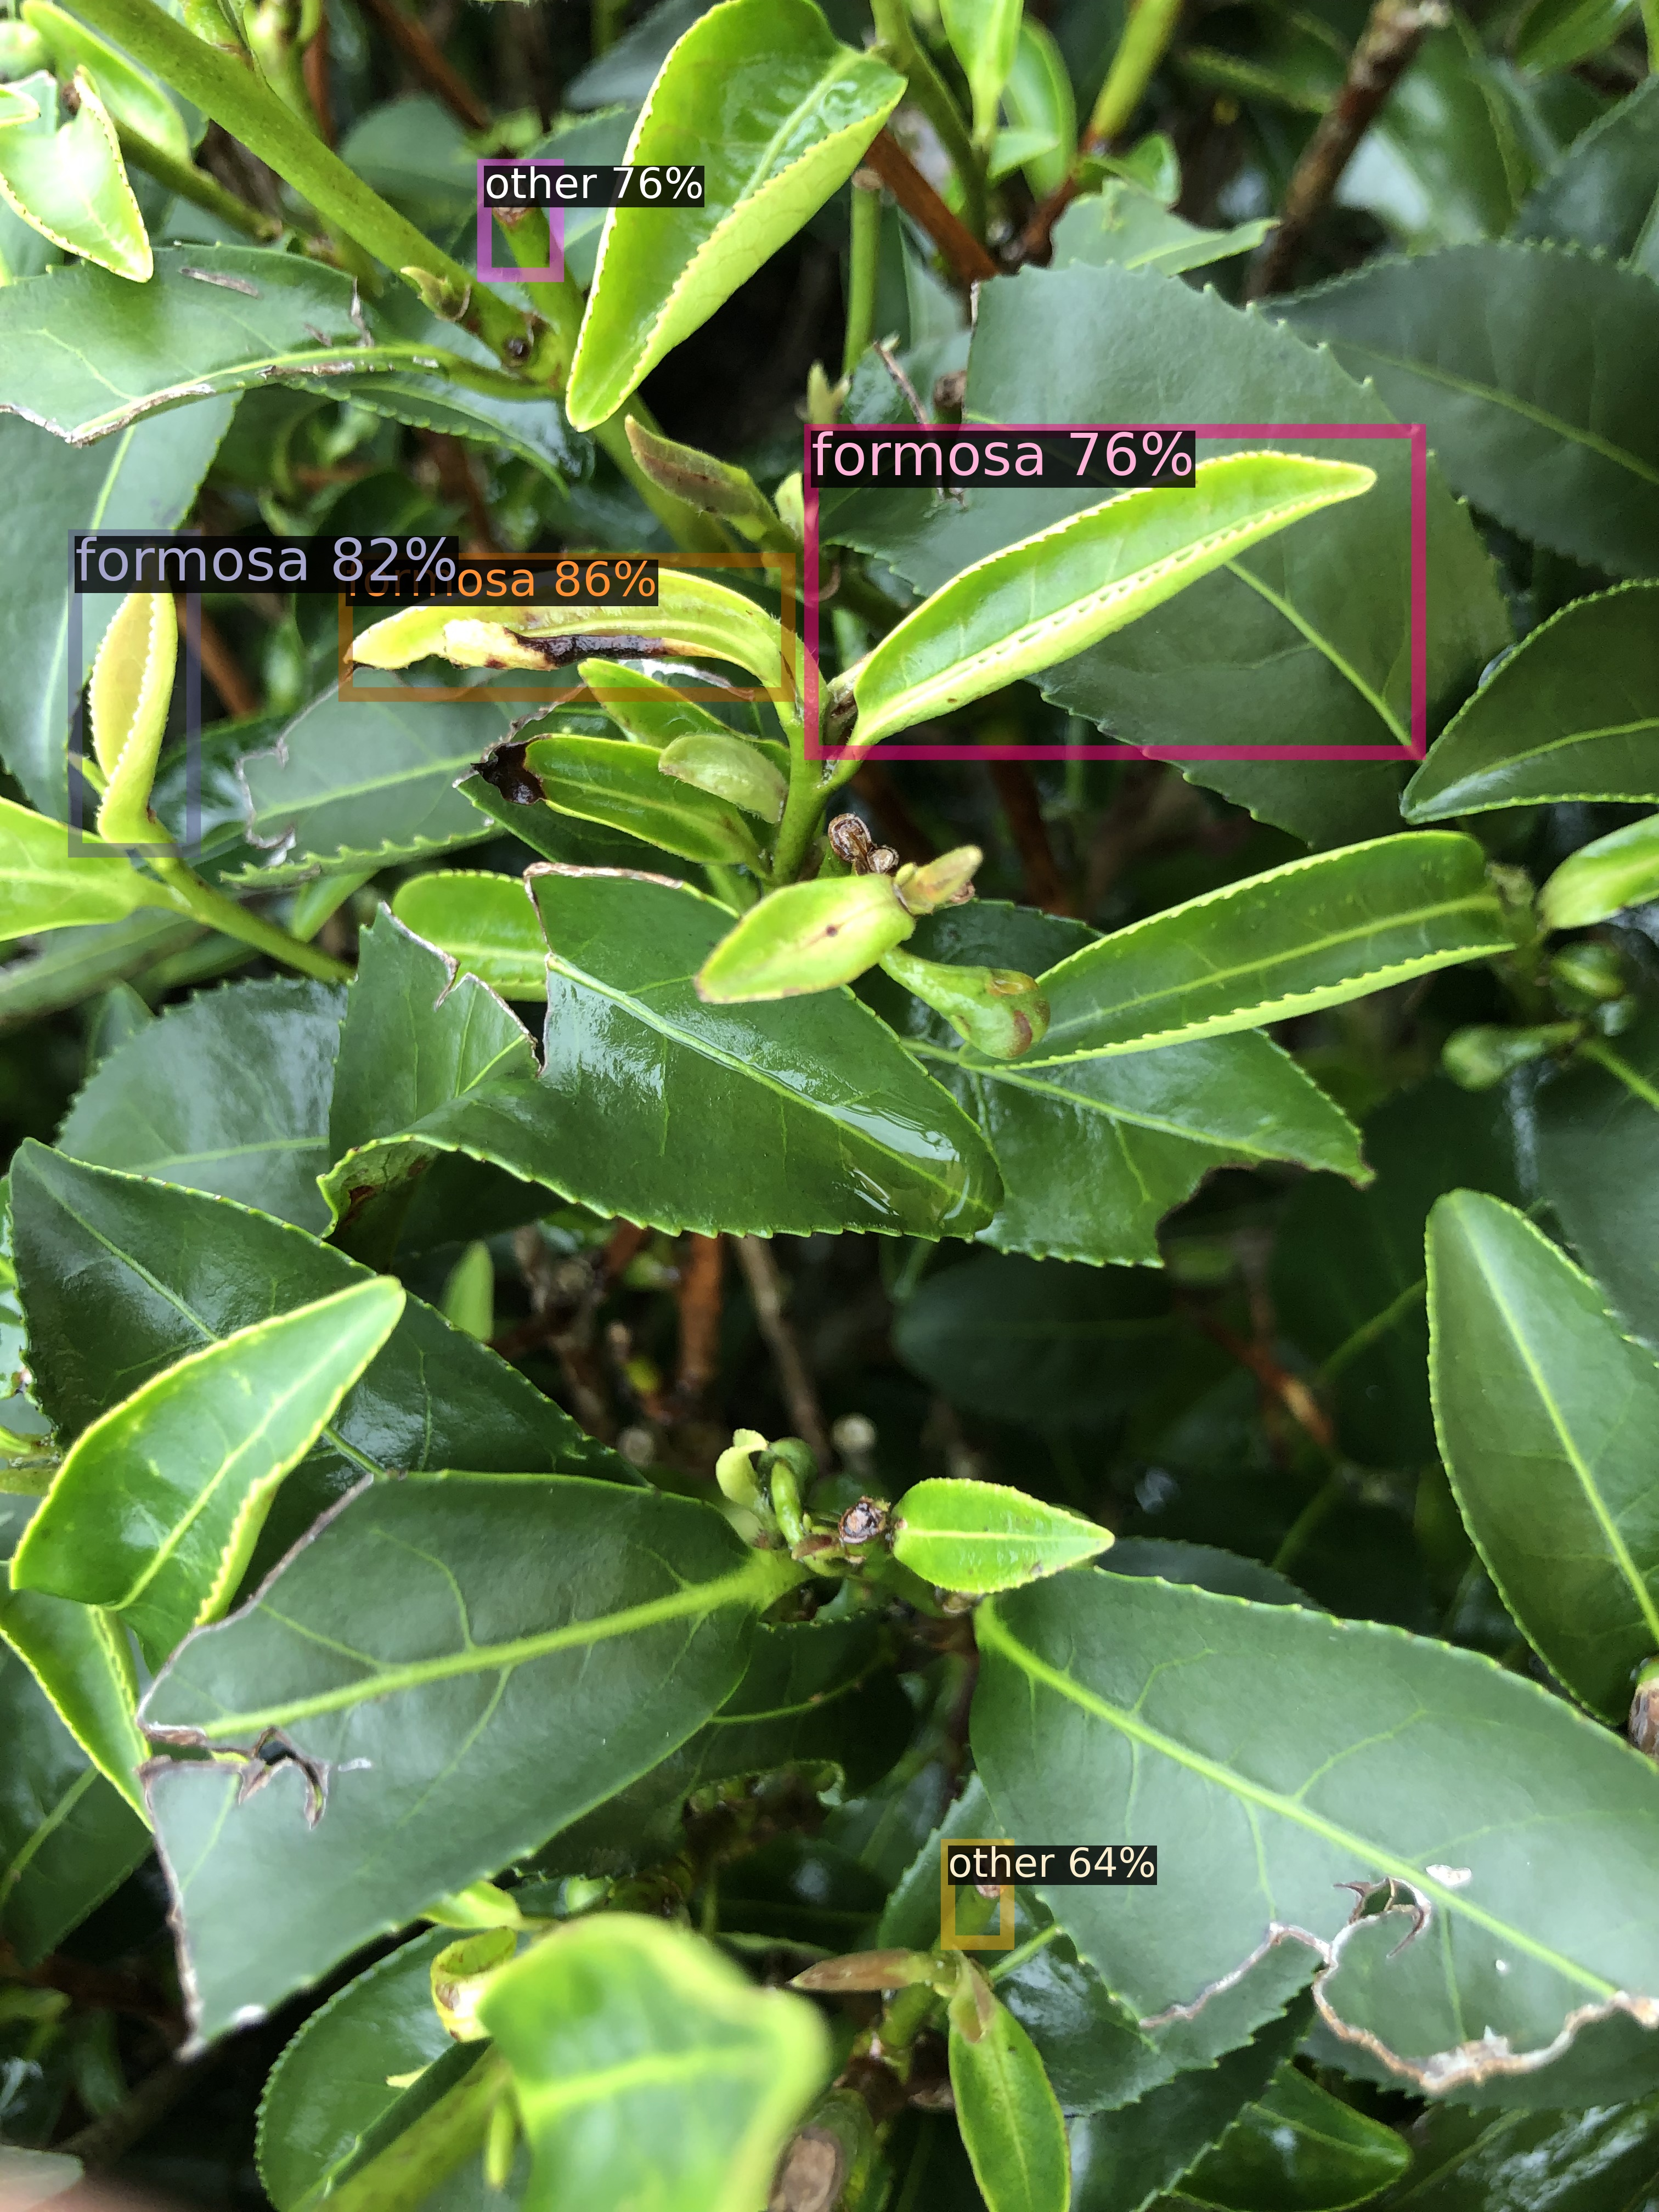formosa: (812, 432, 1419, 752), (345, 559, 788, 695), (75, 536, 193, 850)
other: (484, 165, 558, 273), (948, 1846, 1007, 1942)
